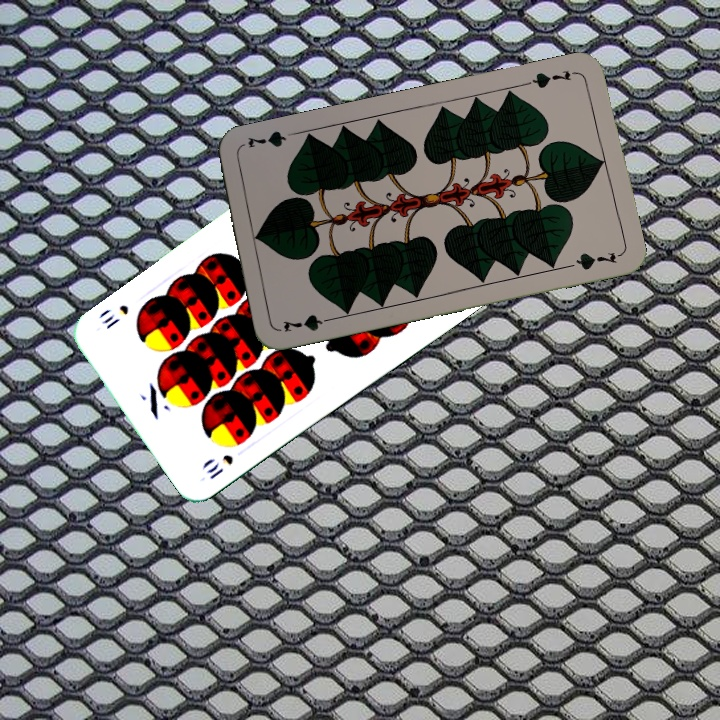G7: (279, 310, 338, 335), (522, 66, 581, 91)
S10: (202, 450, 236, 482)
